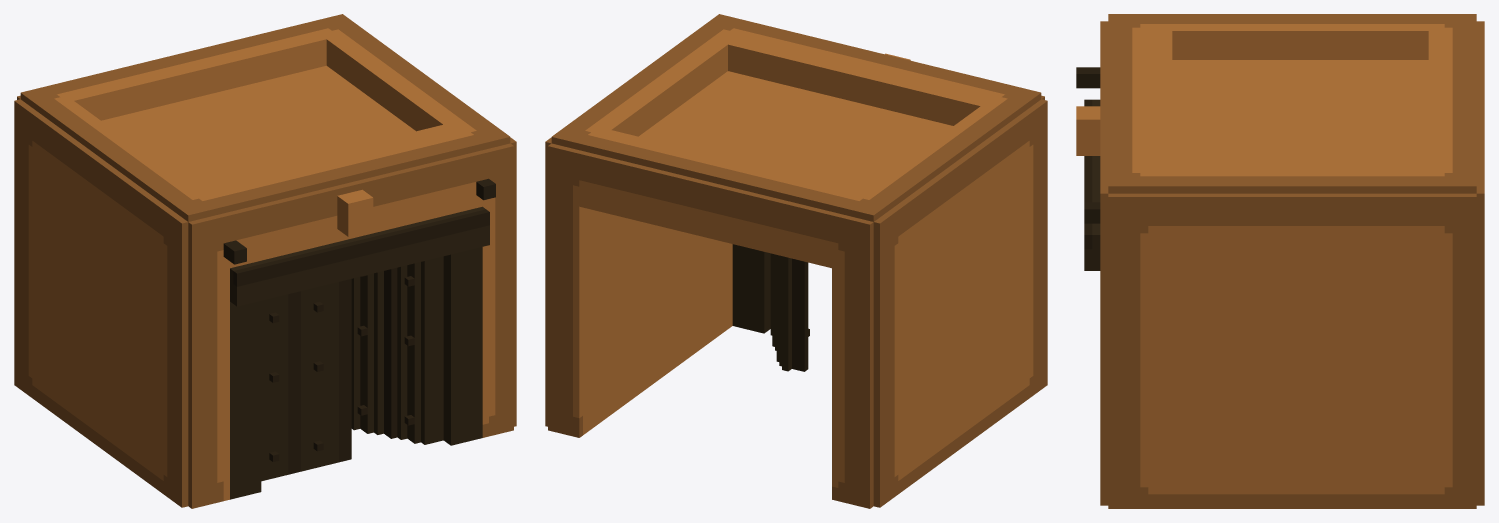
The model's file is gat_semi_open.obj.
The picture shows the model from 3 angles, left to right: view 1: azimuth 30°, elevation 25°; view 2: azimuth 150°, elevation 25°; view 3: azimuth 270°, elevation 25°; orthographic projection. The views are drawn at different scales.
Bounding box in the file's own units: 5.3 × 4.4 × 5.1.
1 material, 1 textured.
